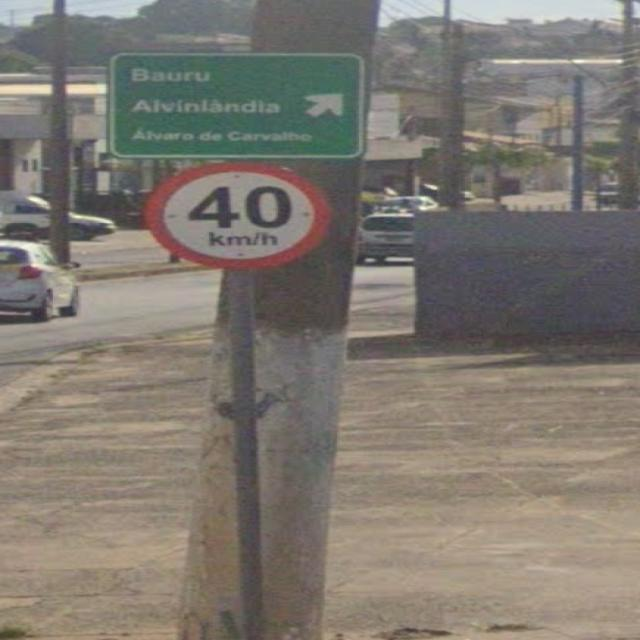indication: (67, 34, 398, 162)
speed limit: (115, 167, 347, 278)
